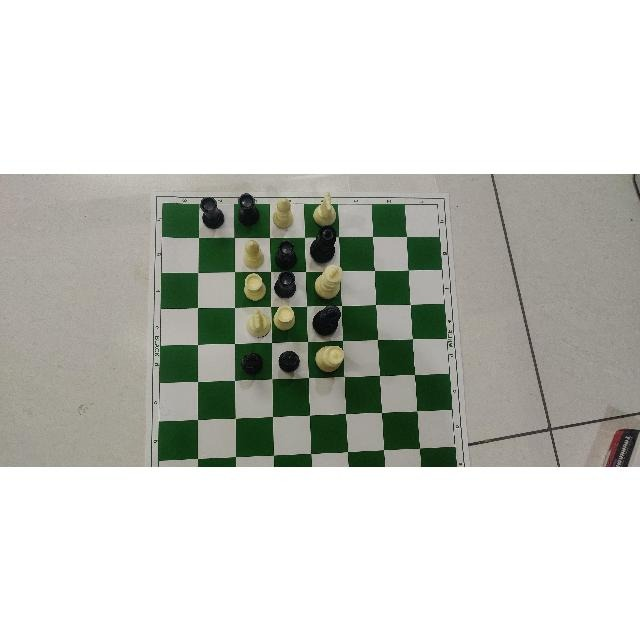black-bishop: (240, 348, 268, 376), (276, 351, 301, 373)
black-king: (312, 303, 343, 336)
black-queen: (311, 226, 337, 262)
black-rook: (234, 191, 264, 226), (198, 195, 226, 229), (274, 270, 298, 298), (275, 240, 297, 268)
white-bishop: (242, 238, 267, 271), (272, 198, 295, 230)
white-king: (312, 263, 344, 299)
white-knight: (243, 311, 273, 341), (312, 193, 338, 225)
white-queen: (313, 342, 345, 375)
white-rook: (238, 271, 268, 302), (274, 305, 298, 332)
